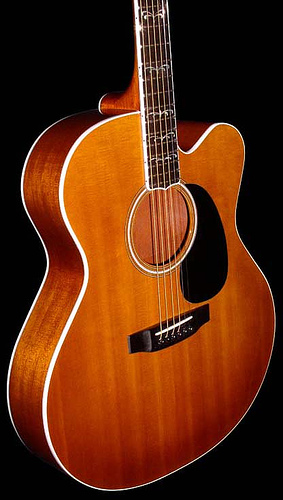guitar: (4, 1, 276, 493)
